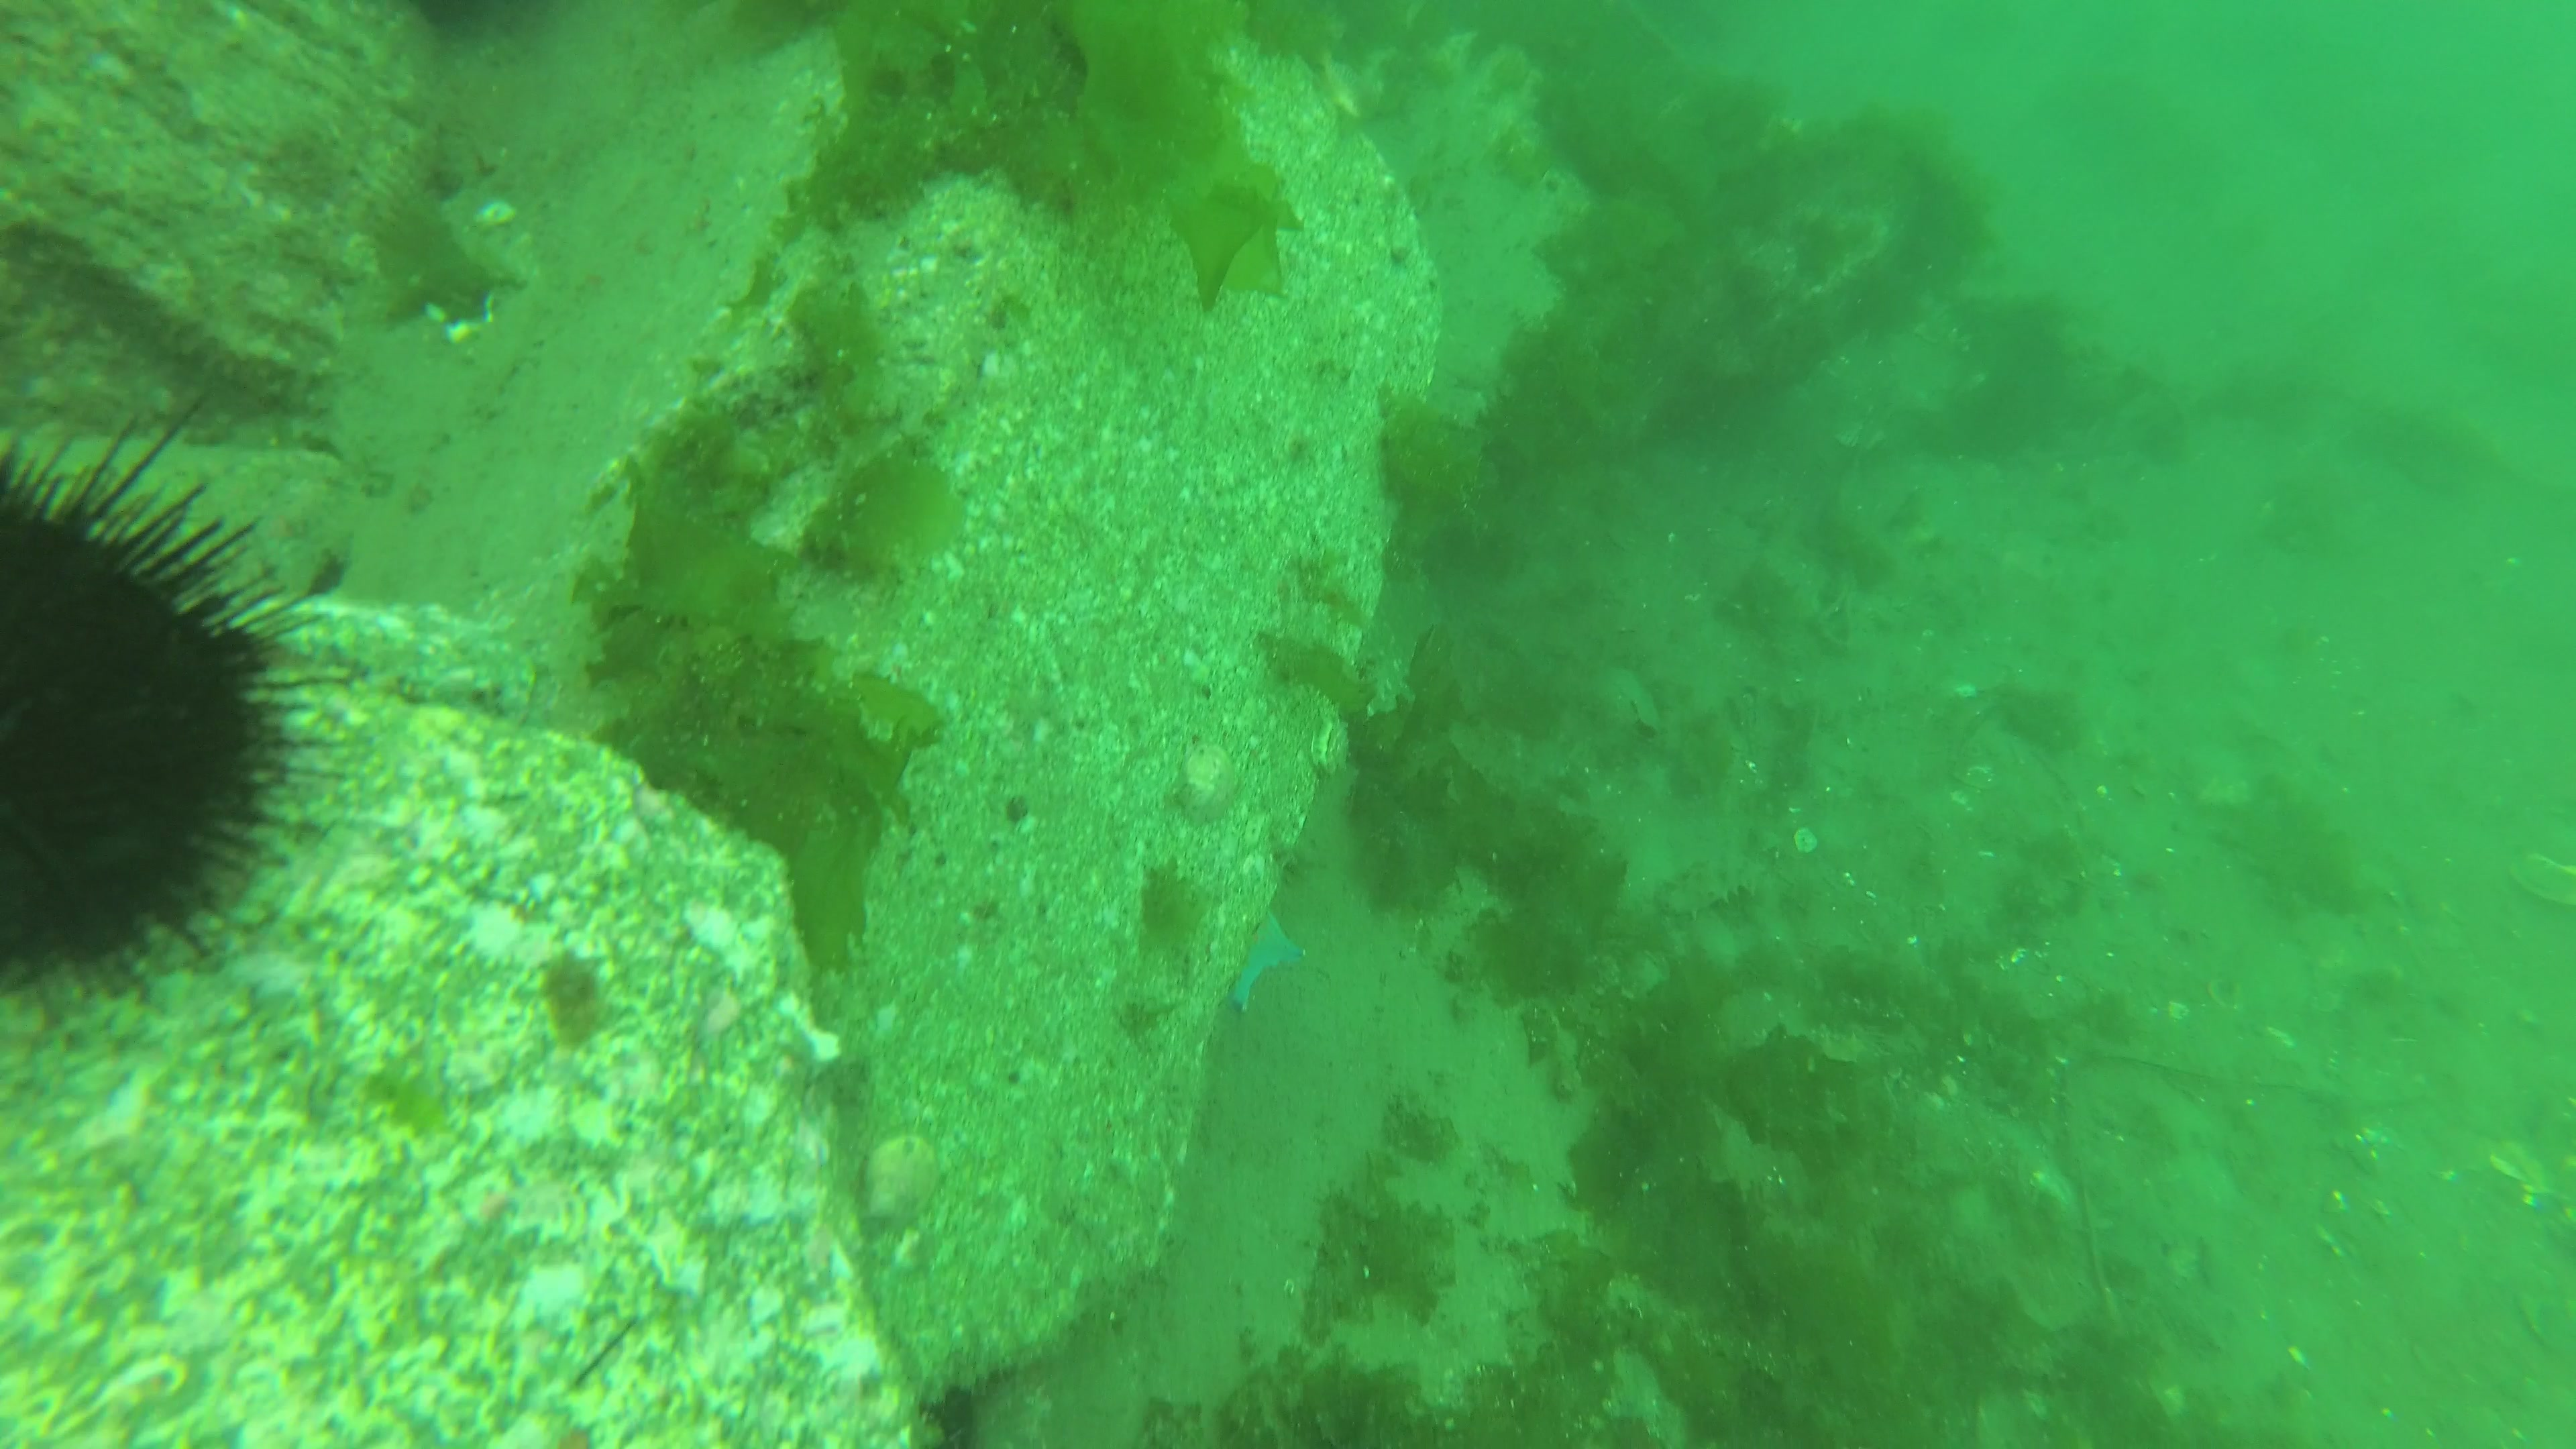echinus: (4, 403, 331, 989)
holothurian: (1652, 846, 1776, 927)
starfish: (1223, 899, 1306, 1021)
